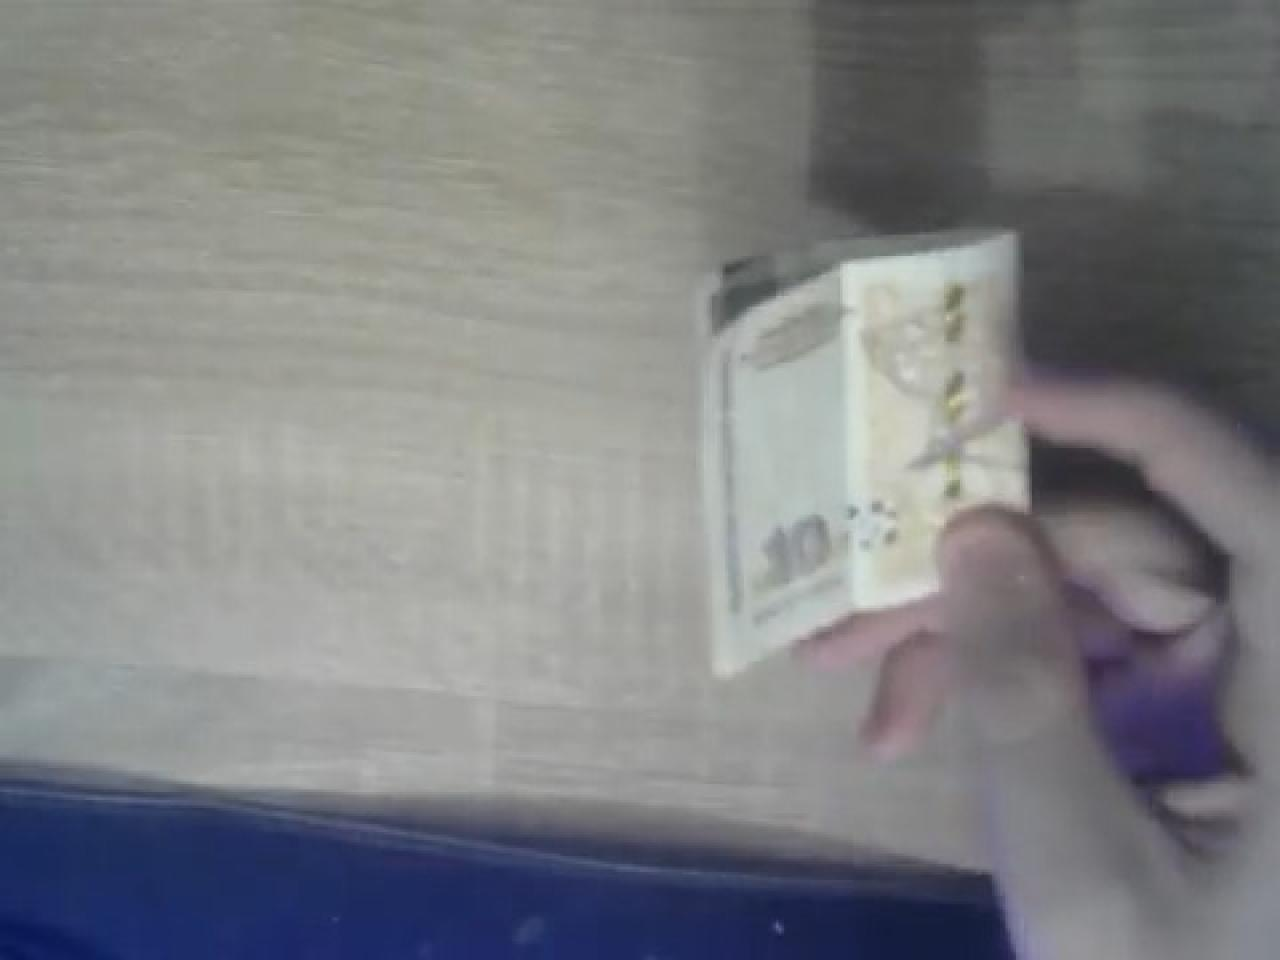10leva: (698, 224, 1037, 686)
